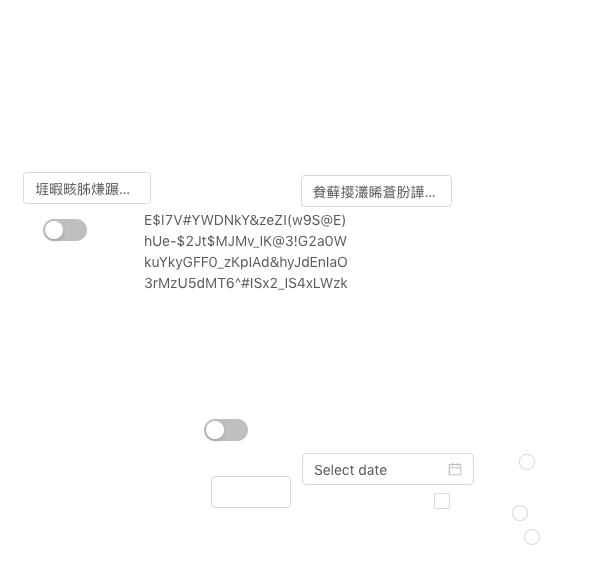Checkbox: (434, 490, 450, 511)
DatePicker: (302, 453, 474, 485)
Input: (301, 175, 452, 207), (23, 172, 151, 204), (211, 476, 291, 508)
Radio: (519, 451, 535, 471), (524, 526, 540, 546), (512, 502, 528, 522)
Switch: (43, 218, 87, 242), (204, 418, 248, 442)
Text: (144, 209, 348, 293)
